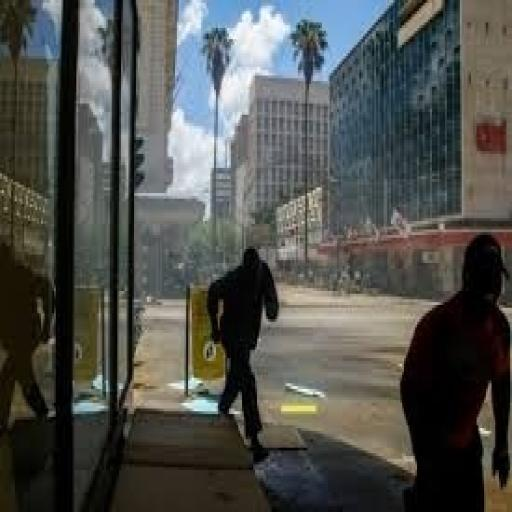running: (397, 230, 510, 510), (203, 240, 283, 464)
